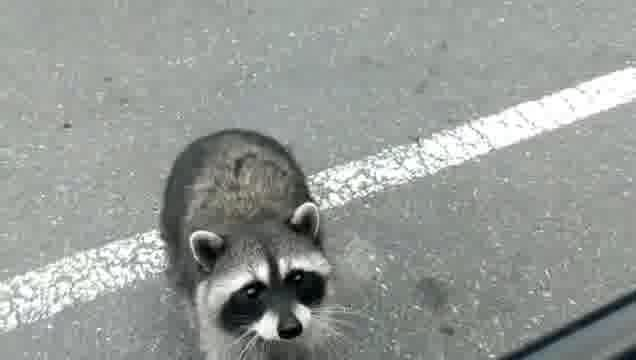raccoon: (160, 127, 350, 360)
